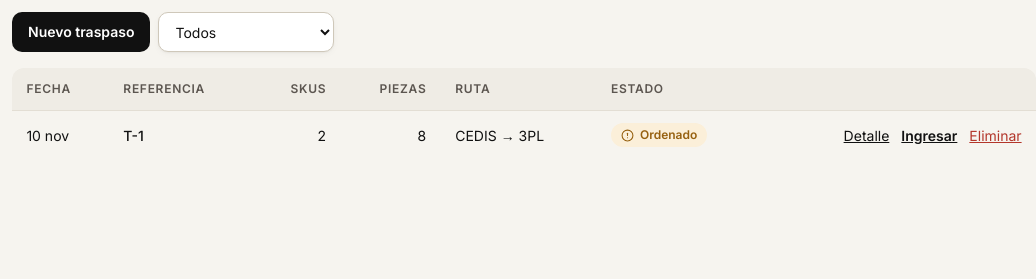
Test case: pantalla Traspasos › ingresar muestra una cantidad recibida por línea, con lo ordenado de inicio
Click the button "Ingresar": (929, 136) x1=901 y1=126 x2=957 y2=146
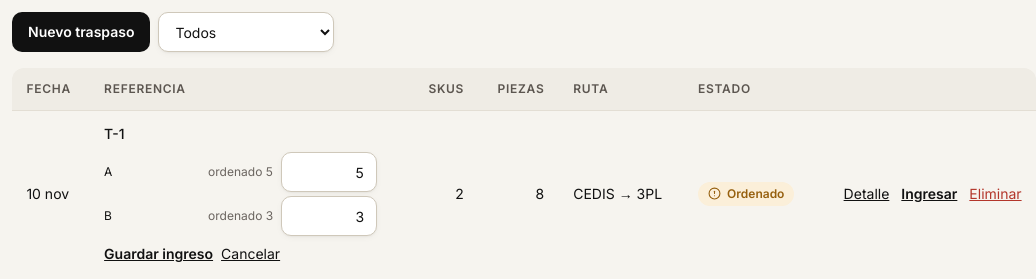
Check: the field named "Recibido de A" holds "5", box x1=281 y1=152 x2=377 y2=192
Check: the field named "Recibido de B" holds "3", box x1=281 y1=196 x2=377 y2=236
